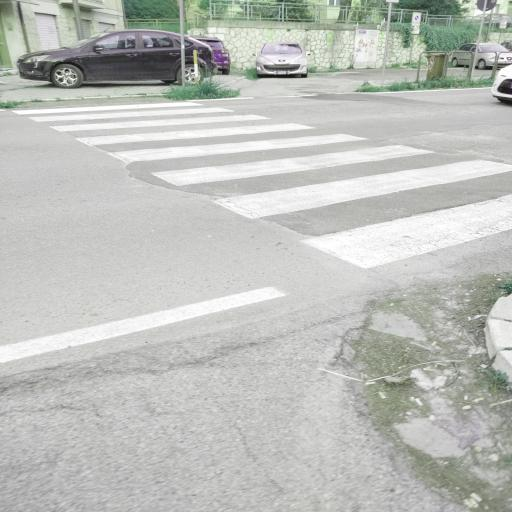crosswalk: (135, 141, 512, 223), (4, 100, 240, 126)
